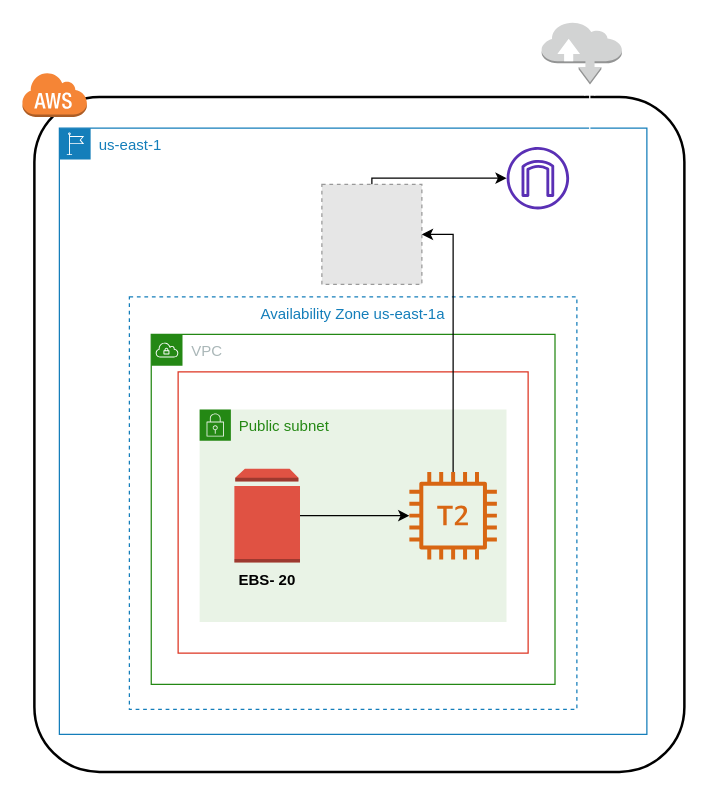
The diagram is 708 pixels wide and 795 high, and some of its shapes have lost their labels. Grey dashed boxes stand in for pictures. The box of each missing label's shape, as (x1, y1, x2, y2) in pixels:
Manager: (409, 471, 496, 559)
Security group: (177, 371, 528, 653)
